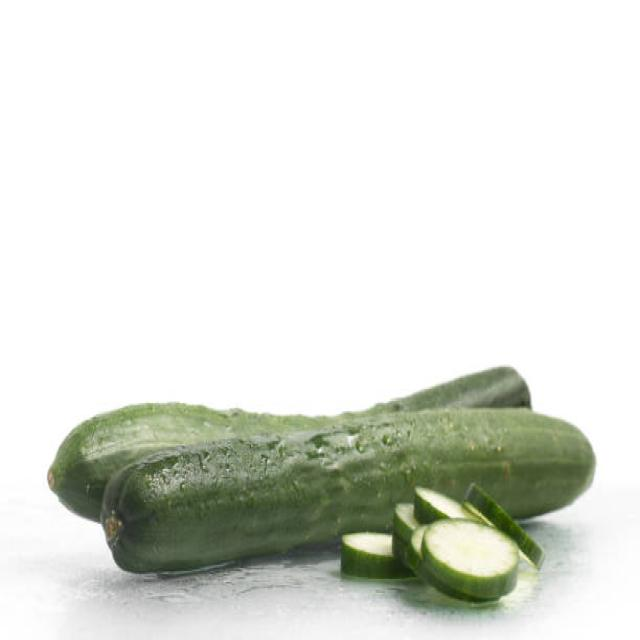cucumber: (51, 367, 595, 572)
